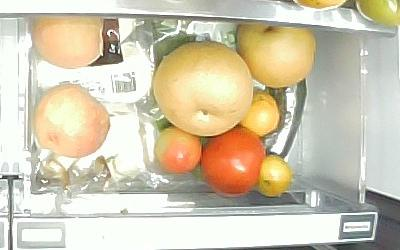peach: (30, 82, 111, 160), (31, 13, 104, 69)
pear: (151, 39, 255, 138), (234, 17, 316, 89)
tangerine: (235, 90, 279, 138), (254, 153, 291, 197)
tomato: (200, 124, 268, 196), (152, 124, 205, 174)
